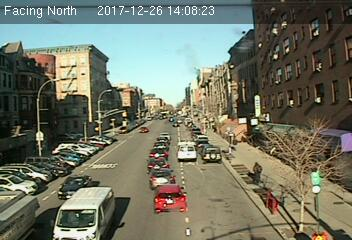car: (153, 185, 188, 214), (56, 175, 91, 196), (148, 167, 175, 186), (203, 146, 221, 161), (147, 156, 168, 168), (150, 148, 166, 157)
pedestrian: (252, 161, 262, 189)
truck: (51, 186, 119, 240), (177, 142, 197, 161)
